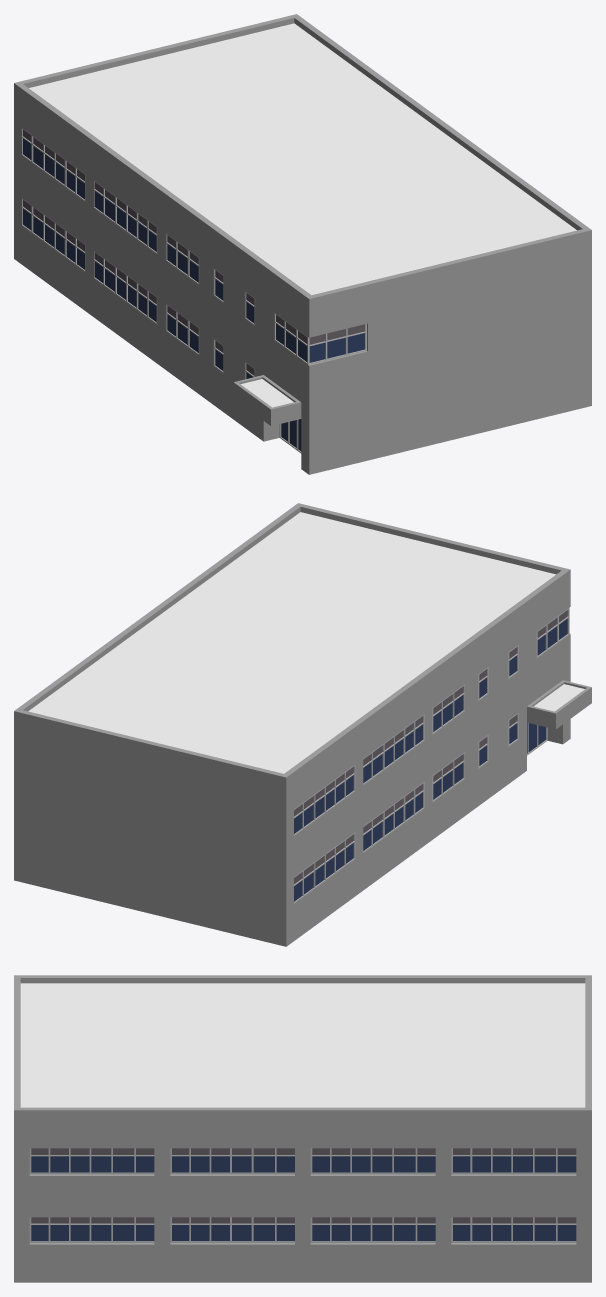
The model's file is Buildings_027.fbx.
The picture shows the model from 3 angles, top to bottom: view 1: azimuth 30°, elevation 25°; view 2: azimuth 150°, elevation 25°; view 3: azimuth 270°, elevation 25°; orthographic projection. The views are drawn at different scales.
Parts seen in each view (by area): view 1: Buildings.027; view 2: Buildings.027; view 3: Buildings.027.
Part boxes in pixels (<box>): Buildings.027: <box>14,14,591,474</box>; Buildings.027: <box>14,503,591,946</box>; Buildings.027: <box>14,975,591,1282</box>.
Size of the model in its own units: 16.73 by 8.98 by 27.33.
